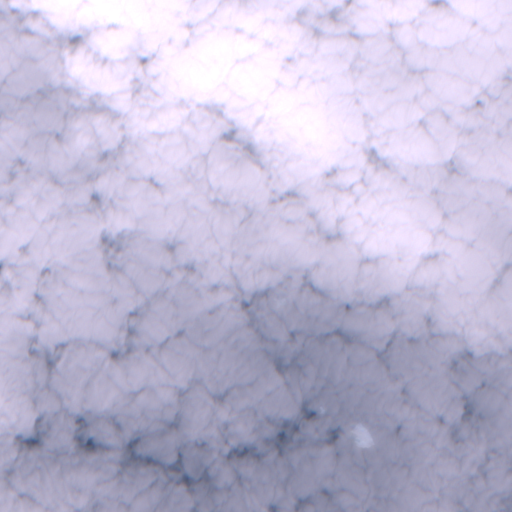Iceberg: (355, 424, 372, 446)
